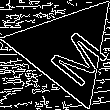M_NW: (31, 15, 103, 83)
